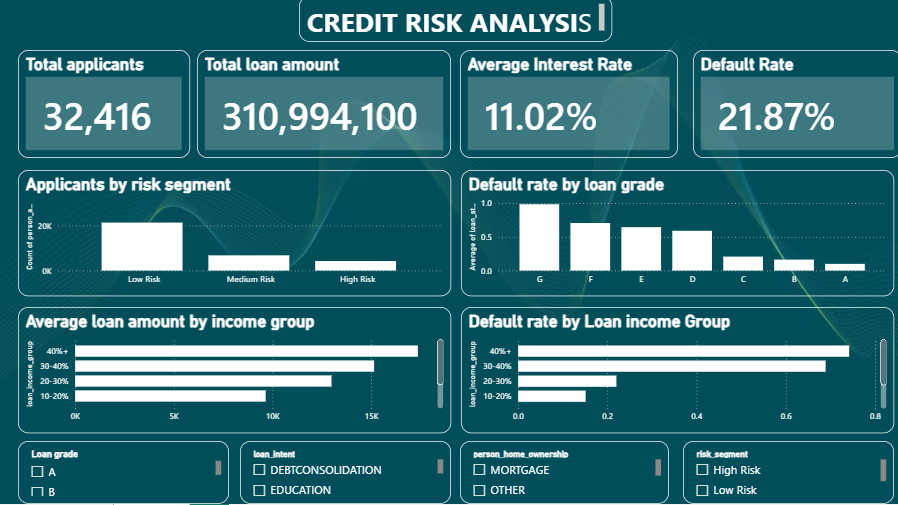

What the dashboard file says about the page in this screenshot:
{"tool":"powerbi","page":{"name":"Page 1","canvas":[1280,720],"ordinal":0},"visuals":[{"type":"cardVisual","title":"Total applicants","fields":{"Data":["credit_risk_cleaned.Total Applicants"]},"box":[26.9,76.5,243.8,153.1],"z":0},{"type":"cardVisual","title":"Total loan amount","fields":{"Data":["credit_risk_cleaned.Total Loan Amount Display"]},"box":[280.6,76.5,360,153.1],"z":1000},{"type":"cardVisual","title":"Average Interest Rate","fields":{"Data":["credit_risk_cleaned.Average Interest Rate %"]},"box":[653.4,76.5,309,153.1],"z":2000},{"type":"cardVisual","title":"Default Rate","fields":{"Data":["credit_risk_cleaned.Default Rate"]},"box":[983.6,76.5,296.2,153.1],"z":3000},{"type":"clusteredColumnChart","title":"Applicants by risk segment","fields":{"Category":["credit_risk_cleaned.risk_segment"],"Y":["CountNonNull(credit_risk_cleaned.person_age)"]},"box":[26.9,246.6,613.7,178.6],"z":4000},{"type":"textbox","box":[425.2,0,443.6,65.2],"z":4001},{"type":"clusteredColumnChart","title":"Default rate by loan grade","fields":{"Category":["credit_risk_cleaned.loan_grade"],"Y":["credit_risk_cleaned.Default Rate %"]},"box":[654.8,246.6,613.7,178.6],"z":4002},{"type":"clusteredBarChart","title":"Average loan amount by income group","fields":{"Y":["Avg(credit_risk_cleaned.loan_amnt)"],"Category":["credit_risk_cleaned.loan_income_group"]},"box":[26.9,440.8,613.7,178.6],"z":4003},{"type":"clusteredBarChart","title":"Default rate by Loan income Group","fields":{"Category":["credit_risk_cleaned.loan_income_group"],"Y":["credit_risk_cleaned.Default Rate %"]},"box":[655,441,614,179],"z":4004},{"type":"slicer","fields":{"Values":["credit_risk_cleaned.loan_grade"]},"box":[26.9,630.7,299.1,89.3],"z":4005},{"type":"slicer","fields":{"Values":["credit_risk_cleaned.loan_intent"]},"box":[341.6,630.7,299.1,89.3],"z":4006},{"type":"slicer","fields":{"Values":["credit_risk_cleaned.person_home_ownership"]},"box":[653.4,630.7,296.2,89.3],"z":4007},{"type":"slicer","fields":{"Values":["credit_risk_cleaned.risk_segment"]},"box":[969.4,630.7,299.1,89.3],"z":4008}]}

Visuals, with their boxes in screenshot pixels (x1, y1, x2, y2), scaled from the page's 1280x720 canvas onto the 898x505 screenshot:
"Total applicants" cardVisual: (x1=19, y1=54, x2=190, y2=161)
"Total loan amount" cardVisual: (x1=197, y1=54, x2=449, y2=161)
"Average Interest Rate" cardVisual: (x1=458, y1=54, x2=675, y2=161)
"Default Rate" cardVisual: (x1=690, y1=54, x2=897, y2=161)
"Applicants by risk segment" clusteredColumnChart: (x1=19, y1=173, x2=449, y2=298)
textbox: (x1=298, y1=0, x2=610, y2=46)
"Default rate by loan grade" clusteredColumnChart: (x1=459, y1=173, x2=890, y2=298)
"Average loan amount by income group" clusteredBarChart: (x1=19, y1=309, x2=449, y2=434)
"Default rate by Loan income Group" clusteredBarChart: (x1=460, y1=309, x2=890, y2=435)
slicer - credit_risk_cleaned.loan_grade: (x1=19, y1=442, x2=229, y2=504)
slicer - credit_risk_cleaned.loan_intent: (x1=240, y1=442, x2=449, y2=504)
slicer - credit_risk_cleaned.person_home_ownership: (x1=458, y1=442, x2=666, y2=504)
slicer - credit_risk_cleaned.risk_segment: (x1=680, y1=442, x2=890, y2=504)
